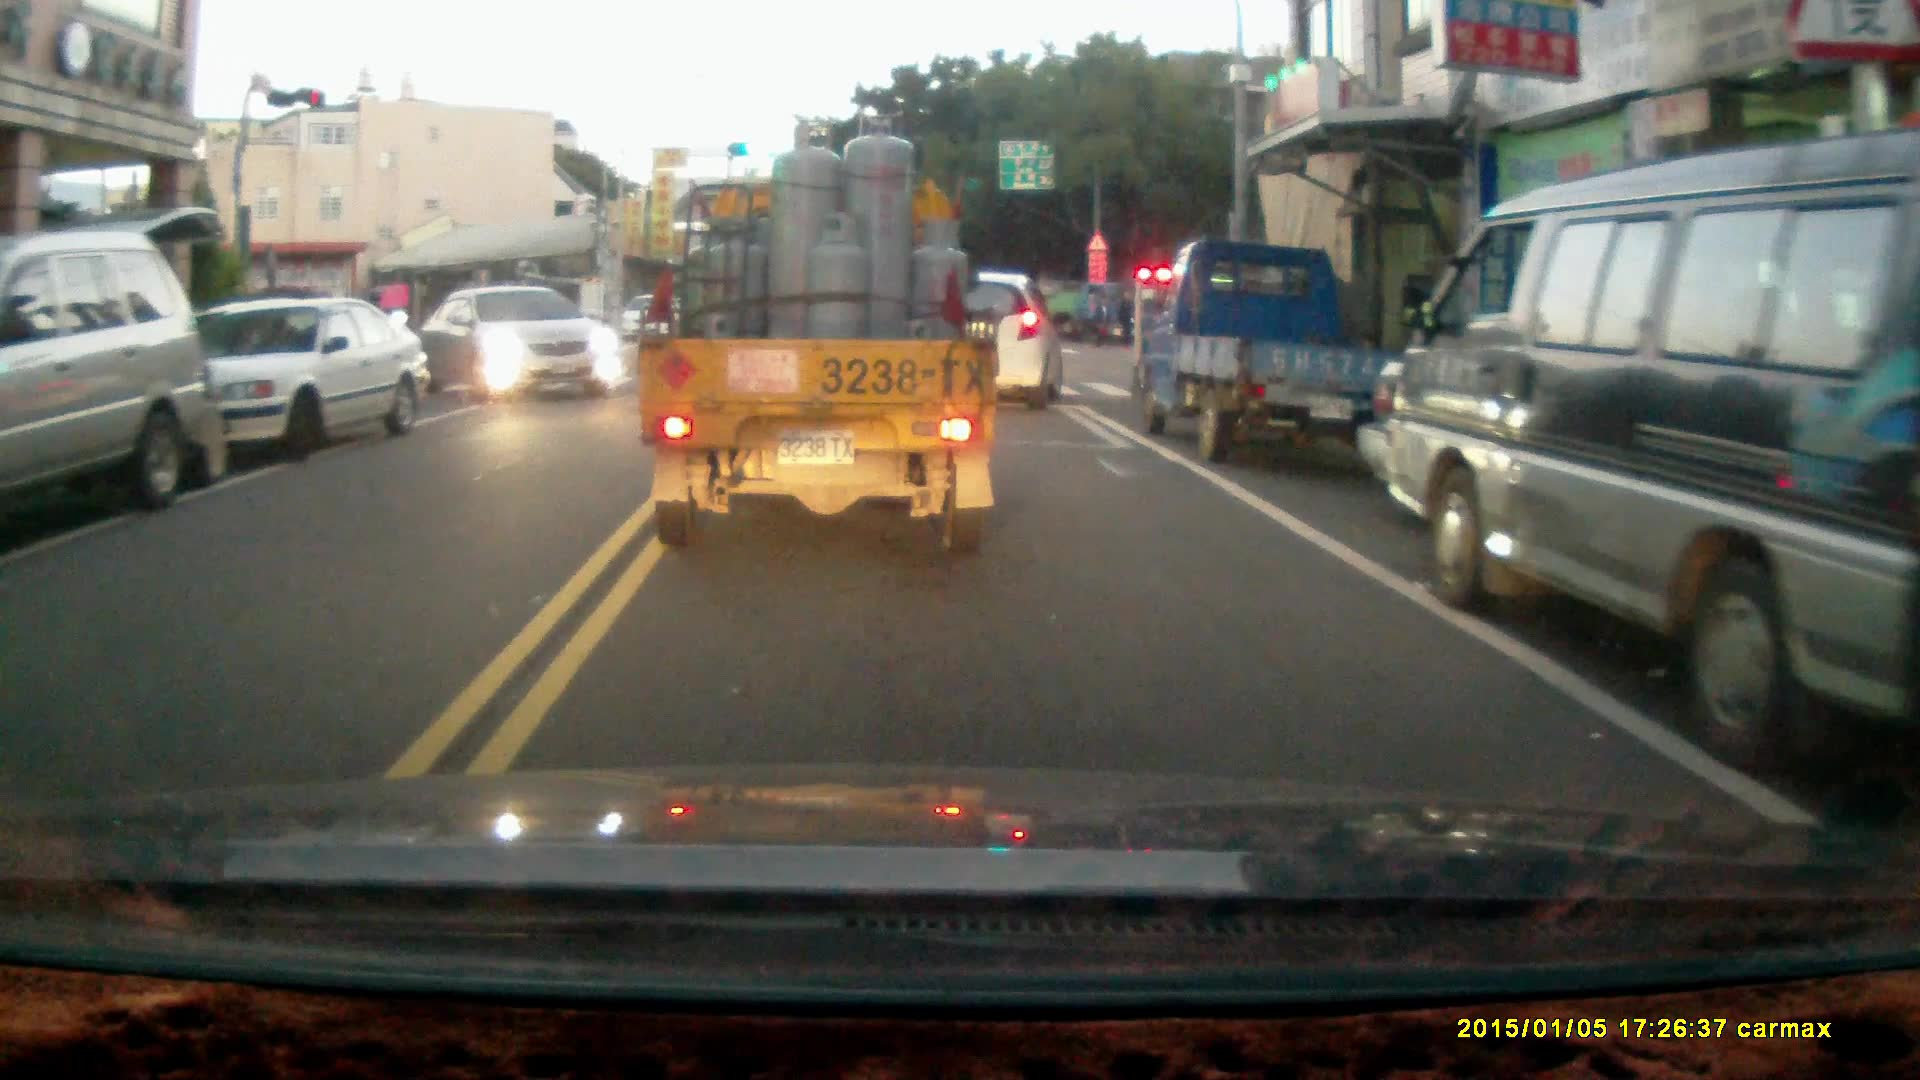vehicle: (1360, 129, 1920, 765), (641, 117, 1010, 558), (1131, 237, 1394, 465), (1, 225, 206, 518), (144, 301, 429, 476), (426, 286, 626, 405), (895, 268, 1059, 409)
